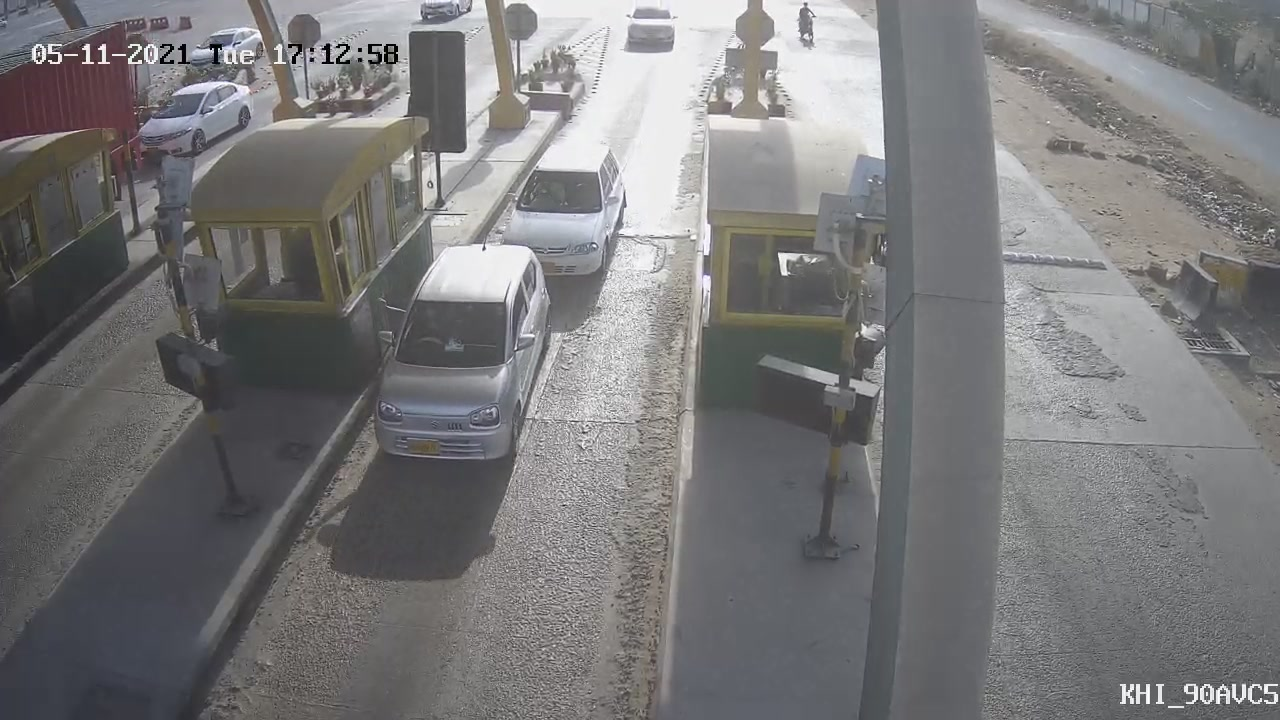F1: (351, 224, 579, 488), (476, 126, 646, 300)
